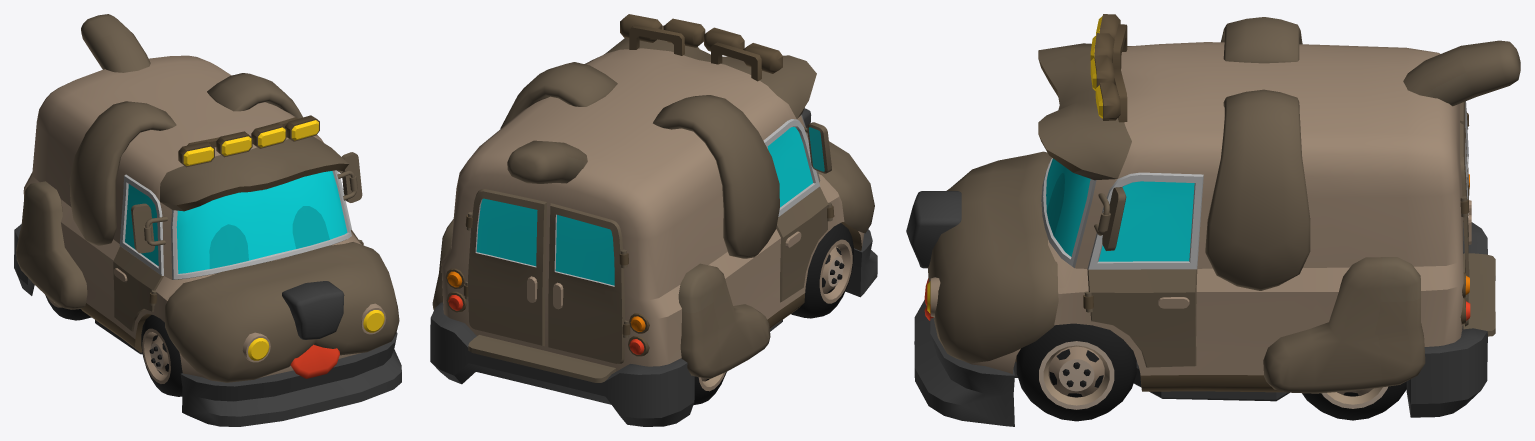
The model's file is VEH25-A.fbx.
3 renders of one model, left to right at view 1: azimuth 30°, elevation 25°; view 2: azimuth 150°, elevation 25°; view 3: azimuth 270°, elevation 25°, orthographic. The views are drawn at different scales.
Parts seen in each view (by area): view 1: VEH25_A, VEH25A_Wheel_FR, VEH25A_Wheel_BR; view 2: VEH25_A, VEH25A_Wheel_FR, VEH25A_Wheel_BR; view 3: VEH25_A, VEH25A_Wheel_FL, VEH25A_Wheel_BL.
Boxes of the visible parts, x1,y1,x2,y2 form: VEH25_A: (14,14,401,426); VEH25A_Wheel_FR: (141,315,182,396); VEH25A_Wheel_BR: (45,295,91,320); VEH25_A: (430,14,877,426); VEH25A_Wheel_FR: (791,223,853,318); VEH25A_Wheel_BR: (693,372,726,405); VEH25_A: (906,14,1520,426); VEH25A_Wheel_FL: (1016,323,1136,421); VEH25A_Wheel_BL: (1302,381,1406,420).
Size of the model in its own units: 282 by 259 by 455.
Materials: 1 (1 with a texture image).
